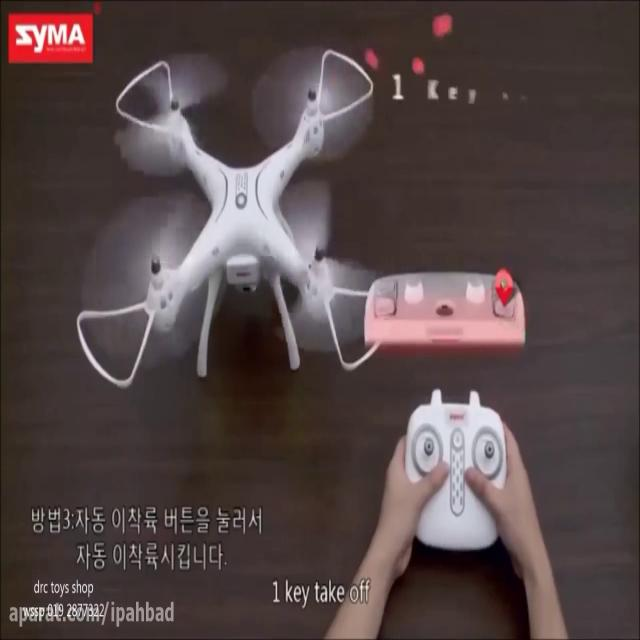drone: (92, 51, 384, 381)
